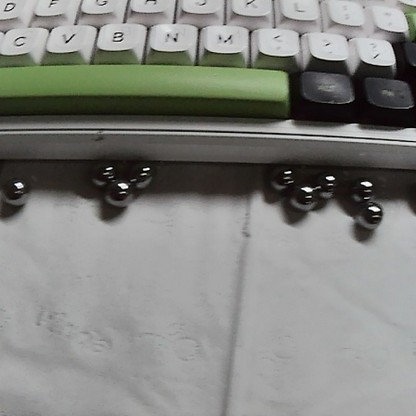ironball: (283, 178, 320, 214), (0, 174, 42, 204), (124, 157, 162, 190), (102, 175, 134, 210), (258, 164, 297, 189), (355, 202, 384, 235), (89, 156, 117, 186), (350, 174, 374, 204), (316, 169, 337, 196)
